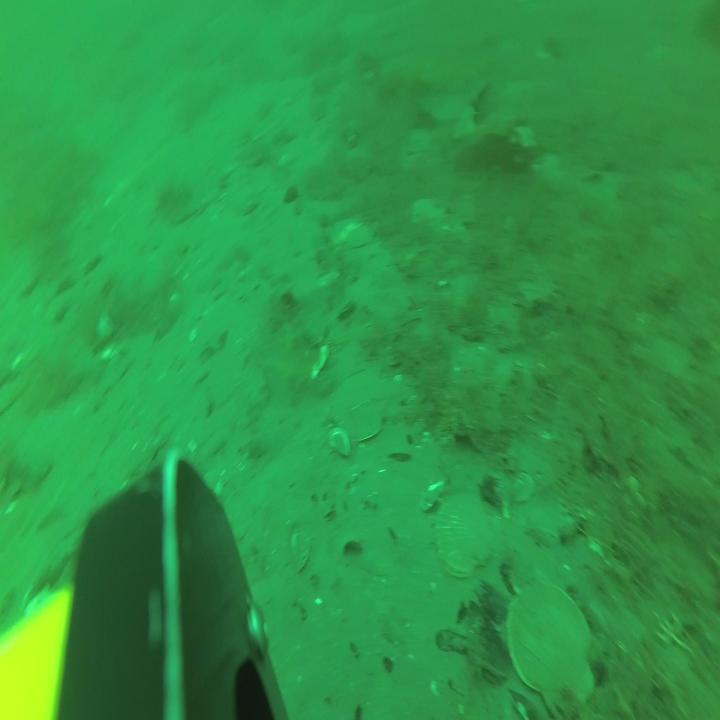scallop: (507, 580, 593, 716), (437, 487, 494, 576), (328, 370, 392, 441), (410, 195, 442, 227), (330, 215, 360, 247), (347, 226, 373, 250)
